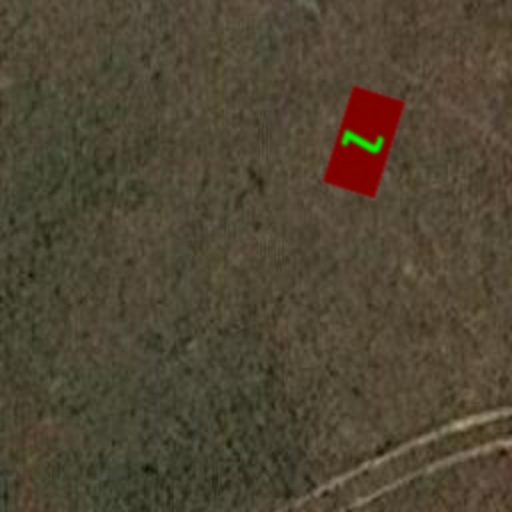rectangle: (298, 76, 430, 208)
